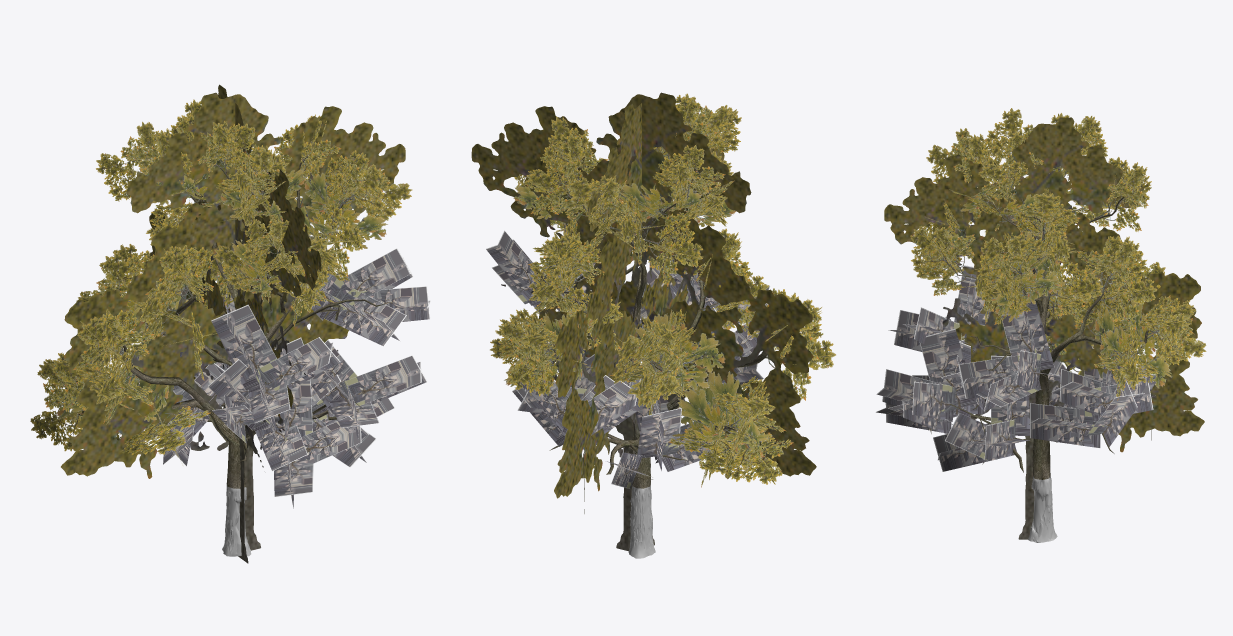
The model's file is Tree-Oak2B.fbx.
The picture shows the model from 3 angles, left to right: view 1: azimuth 30°, elevation 25°; view 2: azimuth 150°, elevation 25°; view 3: azimuth 270°, elevation 25°; orthographic projection. The views are drawn at different scales.
Parts seen in each view (by area): view 1: Tree-Oak2B_LOD0, Billboard-Oak2B; view 2: Tree-Oak2B_LOD0, Billboard-Oak2B; view 3: Tree-Oak2B_LOD0, Billboard-Oak2B.
Part boxes in pixels (x1,y1,x2,y2): Tree-Oak2B_LOD0: (30, 99, 430, 556); Billboard-Oak2B: (61, 84, 405, 563); Tree-Oak2B_LOD0: (486, 93, 835, 558); Billboard-Oak2B: (471, 92, 816, 551); Tree-Oak2B_LOD0: (876, 108, 1206, 542); Billboard-Oak2B: (884, 117, 1204, 539).
Size of what is drawn, in the model's own units: 2650 by 3256 by 2302.
